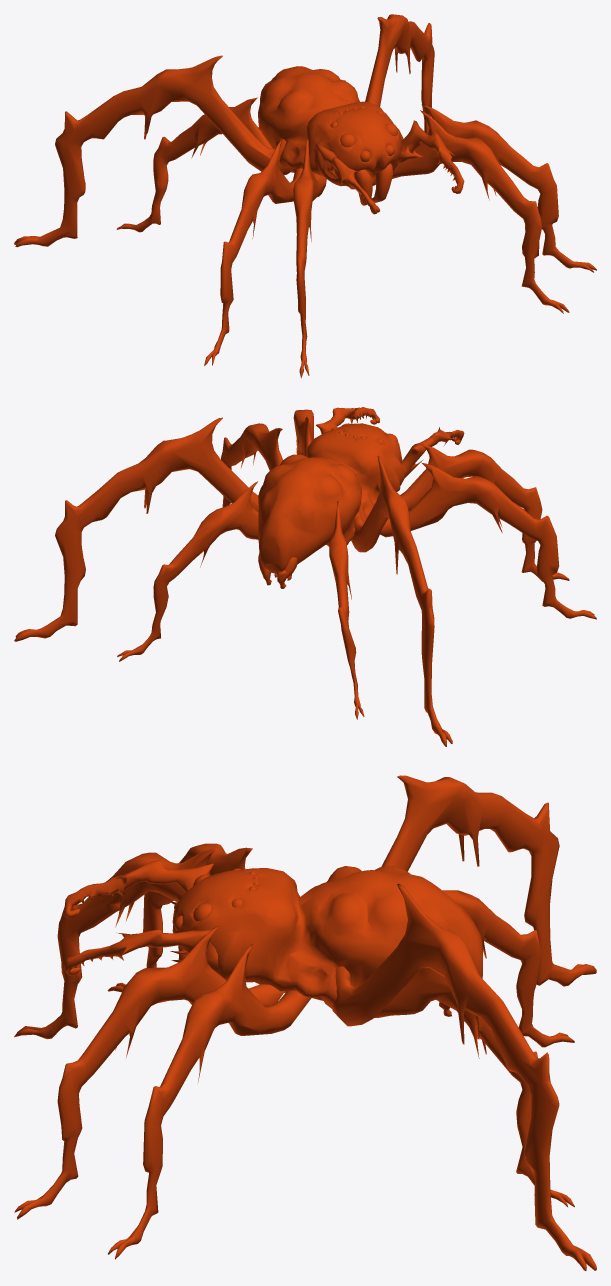
The model's file is spider.obj.
The picture shows the model from 3 angles, top to bottom: view 1: azimuth 30°, elevation 25°; view 2: azimuth 150°, elevation 25°; view 3: azimuth 270°, elevation 25°; orthographic projection. The views are drawn at different scales.
Parts seen in each view (by area): view 1: spider; view 2: spider; view 3: spider.
Part boxes in pixels (x1,y1,x2,y2): spider: (14,14,596,378); spider: (14,407,596,746); spider: (14,775,596,1270).
Bounding box in the file's own units: 6.41 × 2.96 × 5.24.
